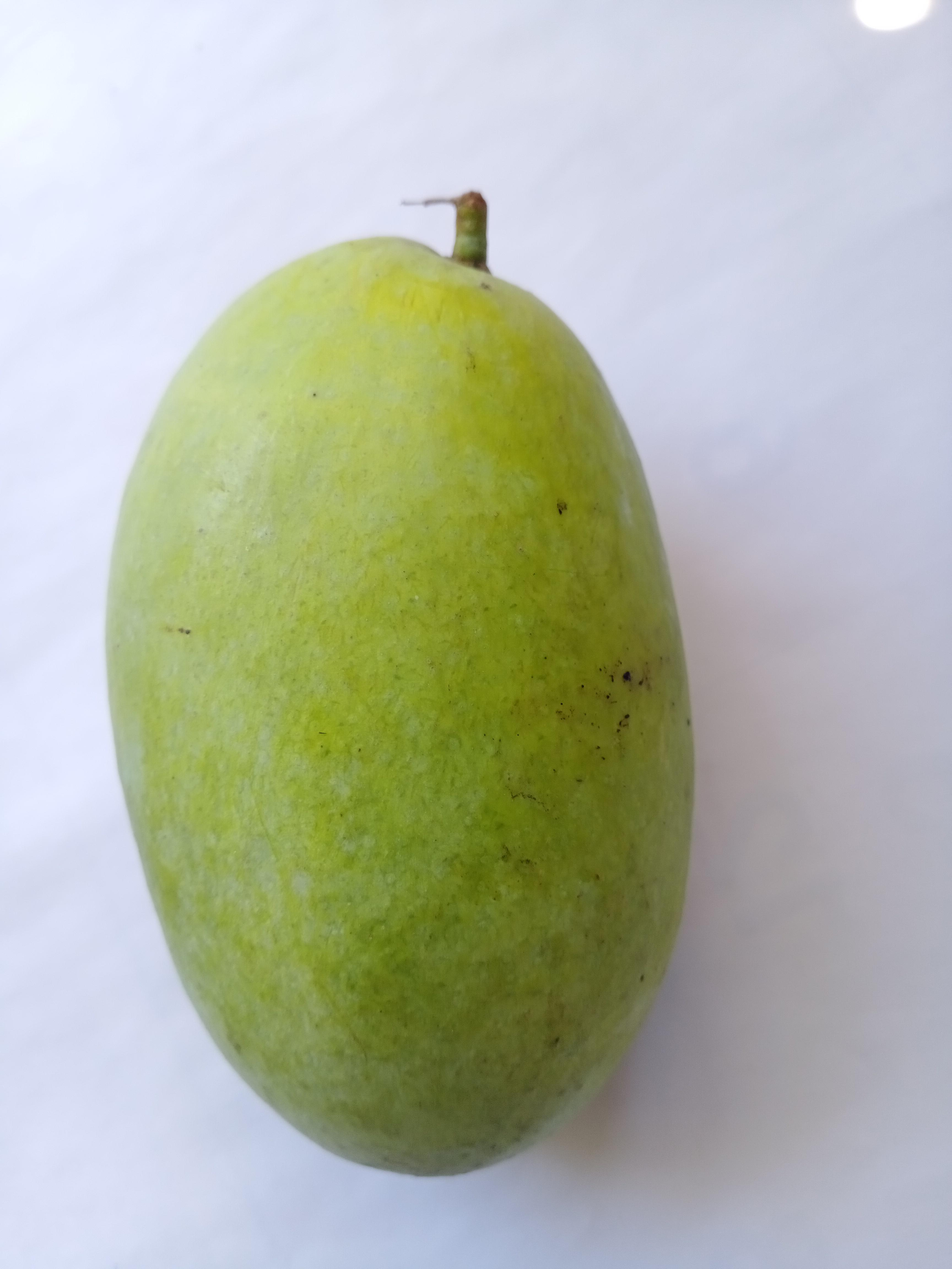Mango Unripe: (66, 121, 713, 1231)
